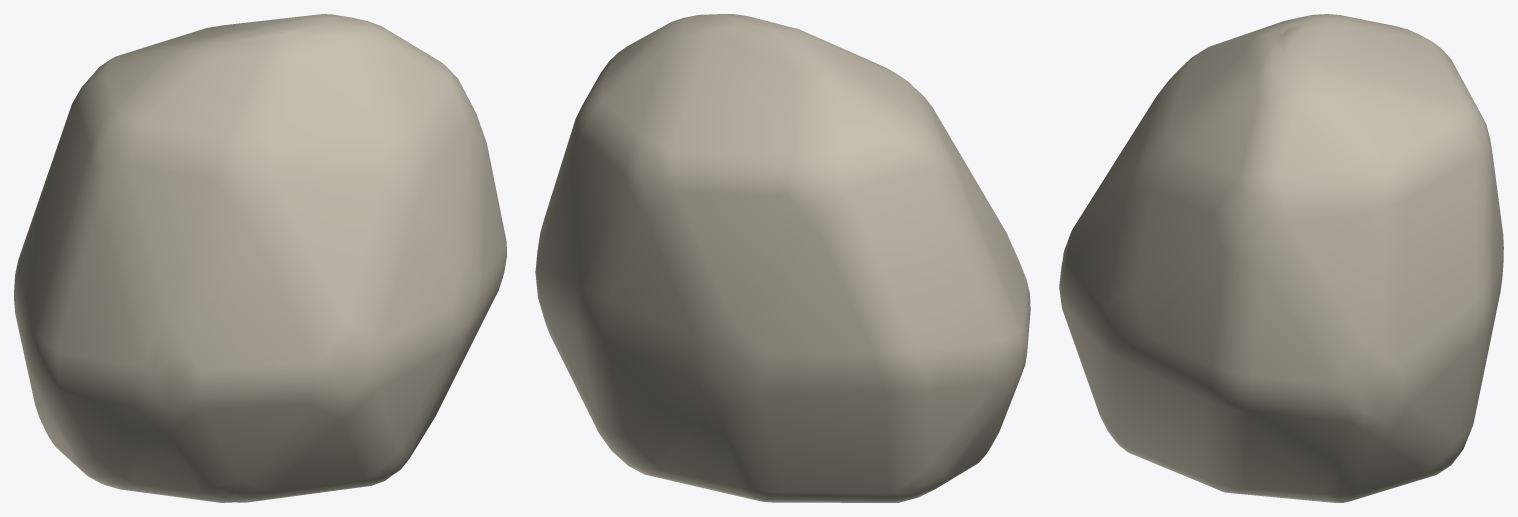
Rendered from Rock_02_Chunk_MaxPoligon.fbx.
The picture shows the model from 3 angles, left to right: view 1: azimuth 30°, elevation 25°; view 2: azimuth 150°, elevation 25°; view 3: azimuth 270°, elevation 25°; orthographic projection.
Visible parts, largest first — view 1: Rock_02_Chunk; view 2: Rock_02_Chunk; view 3: Rock_02_Chunk.
Boxes of the visible parts, <box> form: Rock_02_Chunk: <box>14,14,506,502</box>; Rock_02_Chunk: <box>535,14,1030,502</box>; Rock_02_Chunk: <box>1059,14,1503,502</box>.
Size of the model in its own units: 0.6392 by 0.5496 by 0.5454.
